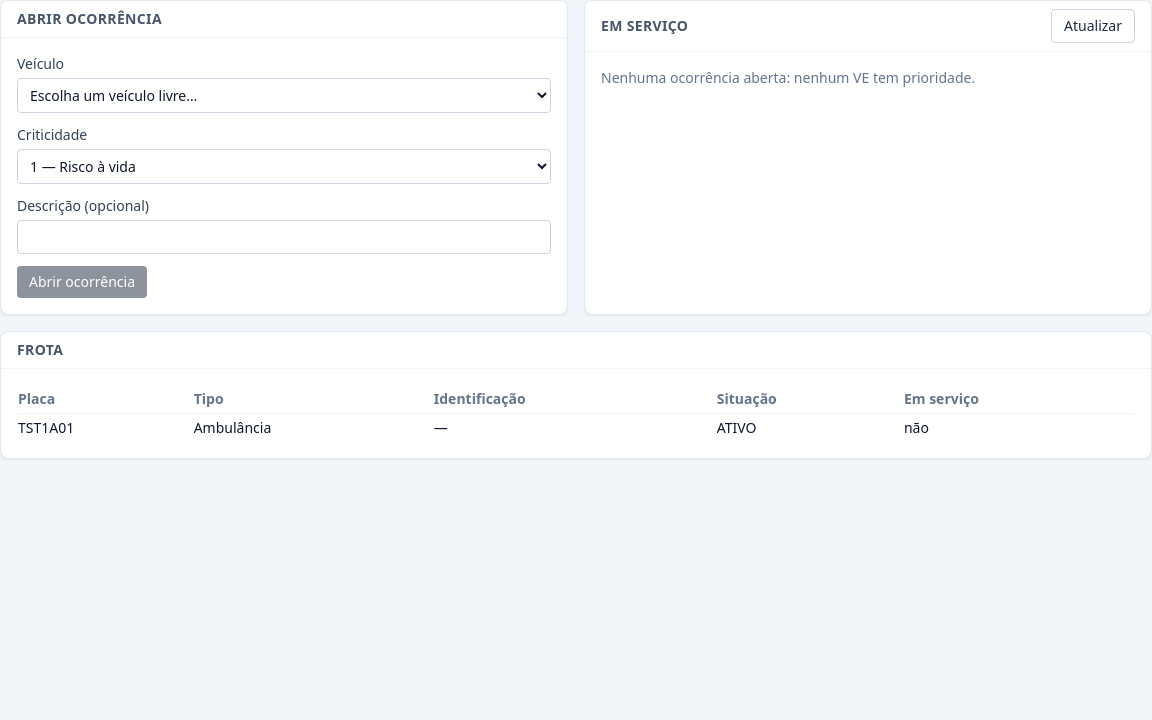
PainelCentral › recusa do backend aparece com o motivo
Step 1. Select "TST1A01 — Ambulância" in the dropdown labelled "Veículo" → coordinates (284, 96), box x1=17 y1=78 x2=551 y2=113
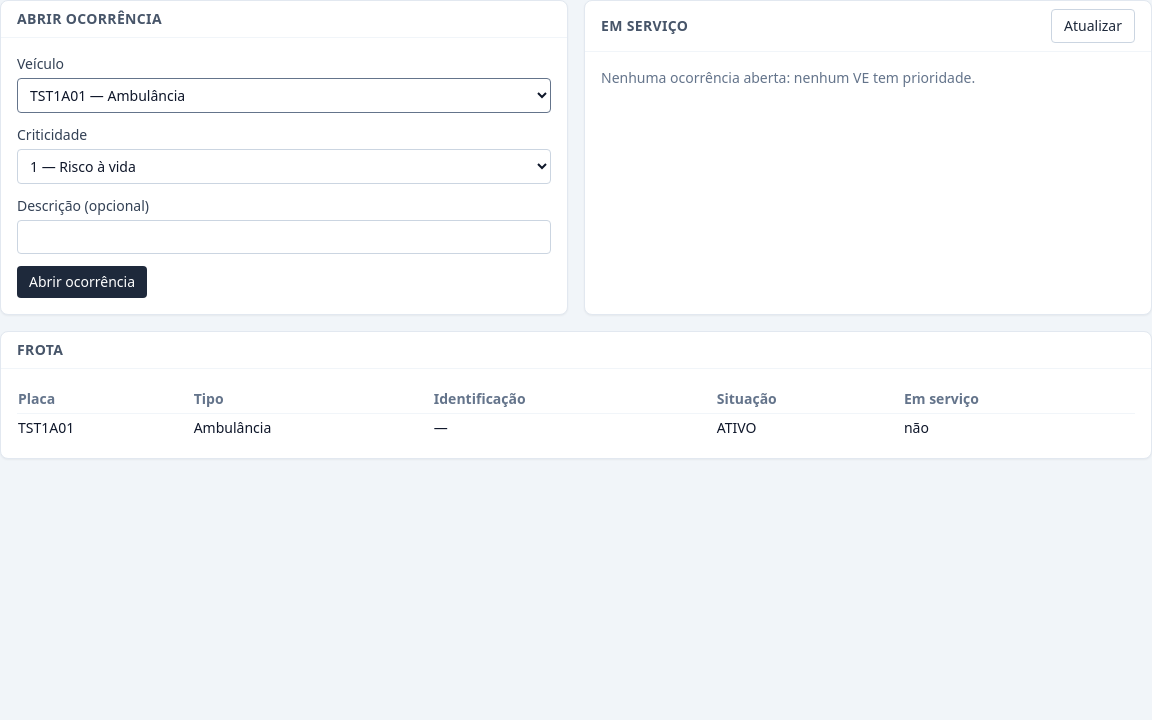
Step 2. Click the button "Abrir ocorrência" → coordinates (82, 282), box x1=17 y1=266 x2=147 y2=298
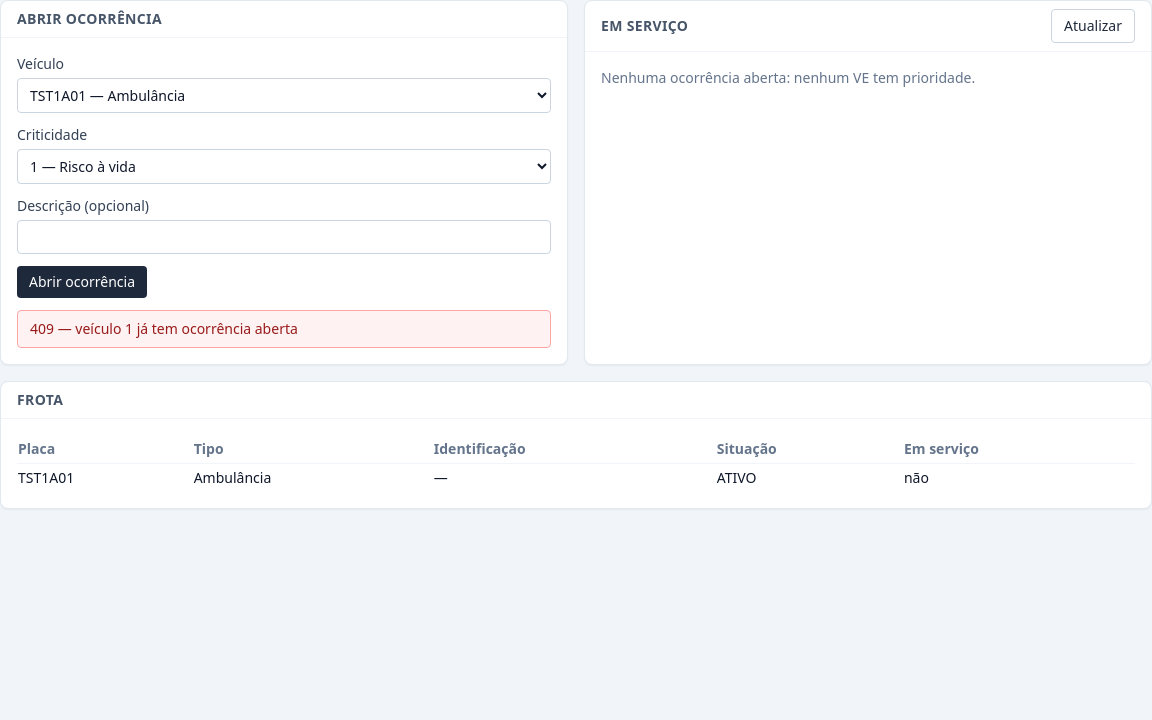
Check: the message reads "409 — veículo 1 já tem ocorrência aberta", box x1=30 y1=319 x2=298 y2=338
